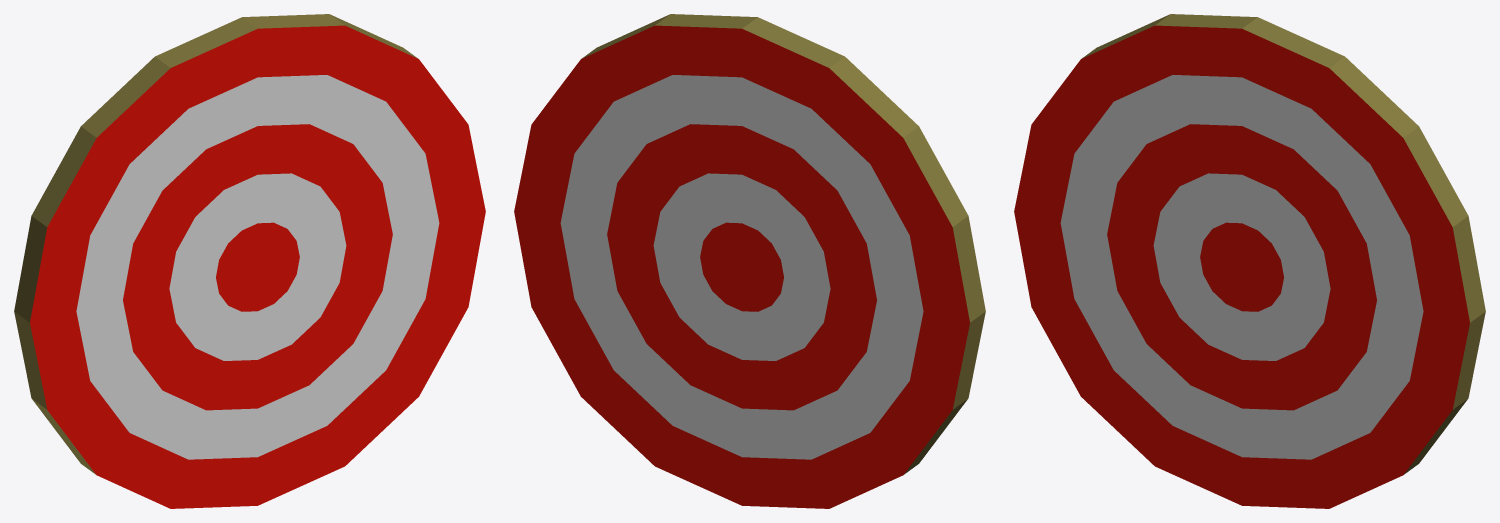
The model's file is Target.fbx.
The picture shows the model from 3 angles, left to right: view 1: azimuth 30°, elevation 25°; view 2: azimuth 150°, elevation 25°; view 3: azimuth 330°, elevation 25°; orthographic projection.
Parts seen in each view (by area): view 1: Target; view 2: Target; view 3: Target.
Part boxes in pixels (bbox=[...]): Target: bbox=[14, 14, 485, 508]; Target: bbox=[514, 14, 985, 508]; Target: bbox=[1014, 14, 1485, 508].
Size of the model in its own units: 200 by 200 by 12.01.
